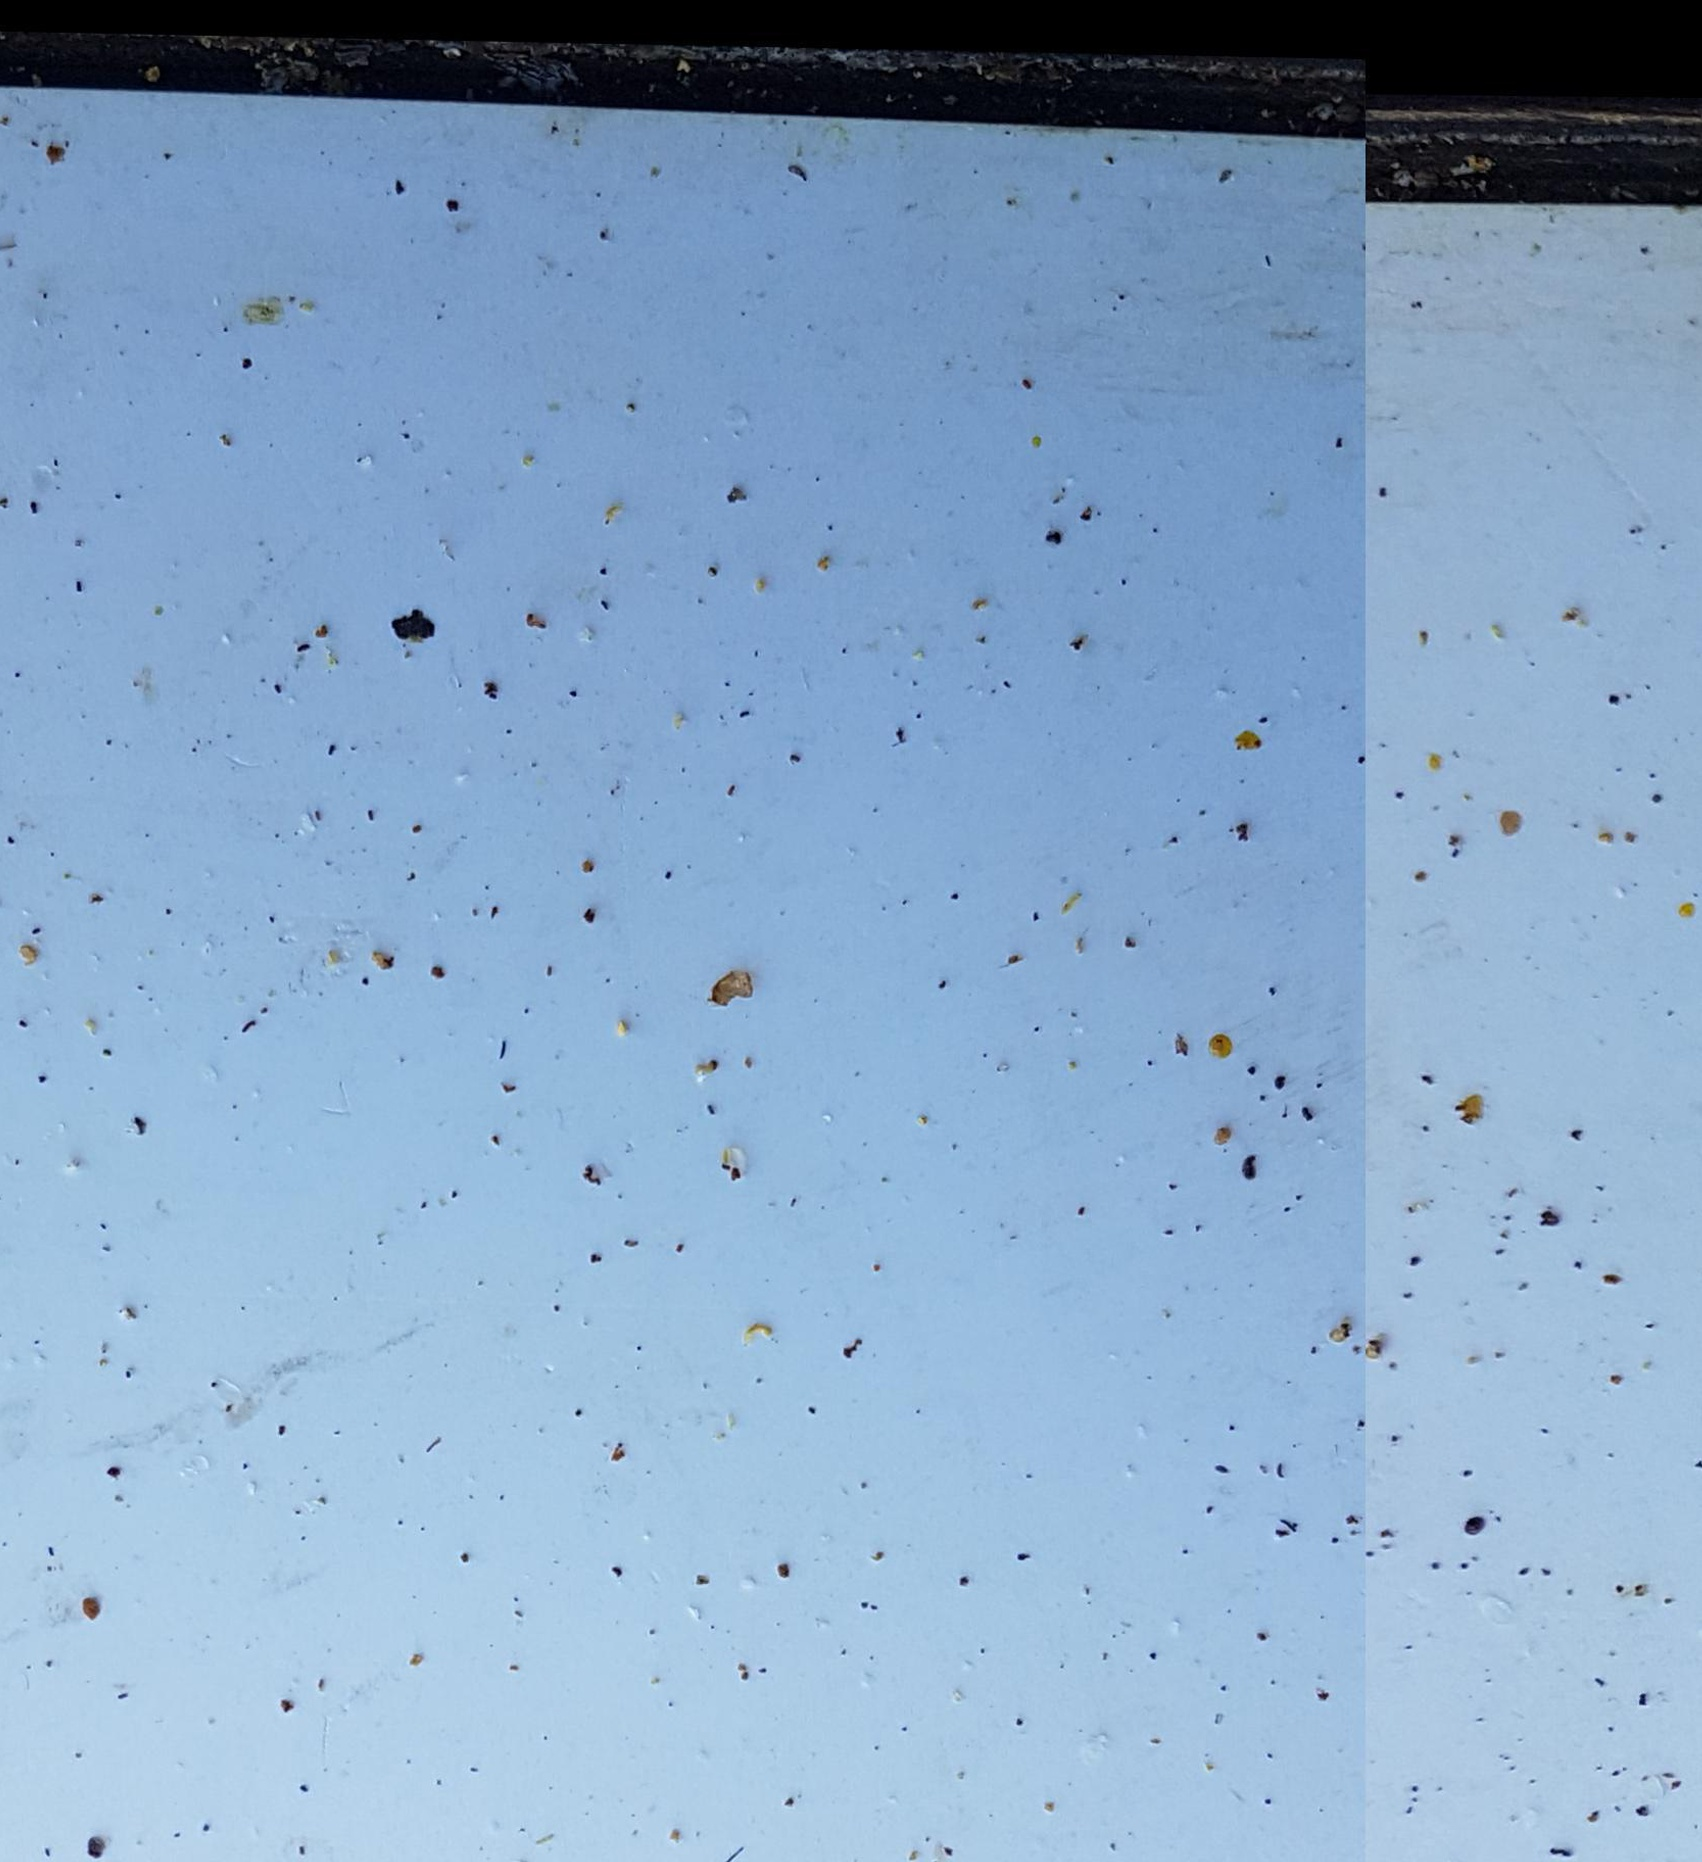Varroa: (1462, 1510, 1489, 1538)
